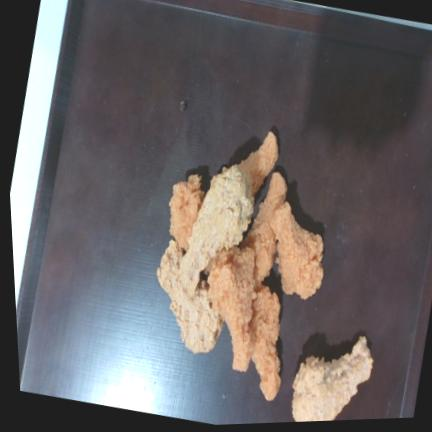chicken: (181, 165, 254, 293), (157, 240, 223, 353), (292, 337, 373, 422), (208, 247, 256, 371), (241, 172, 287, 284), (270, 202, 323, 299), (251, 285, 280, 400)
